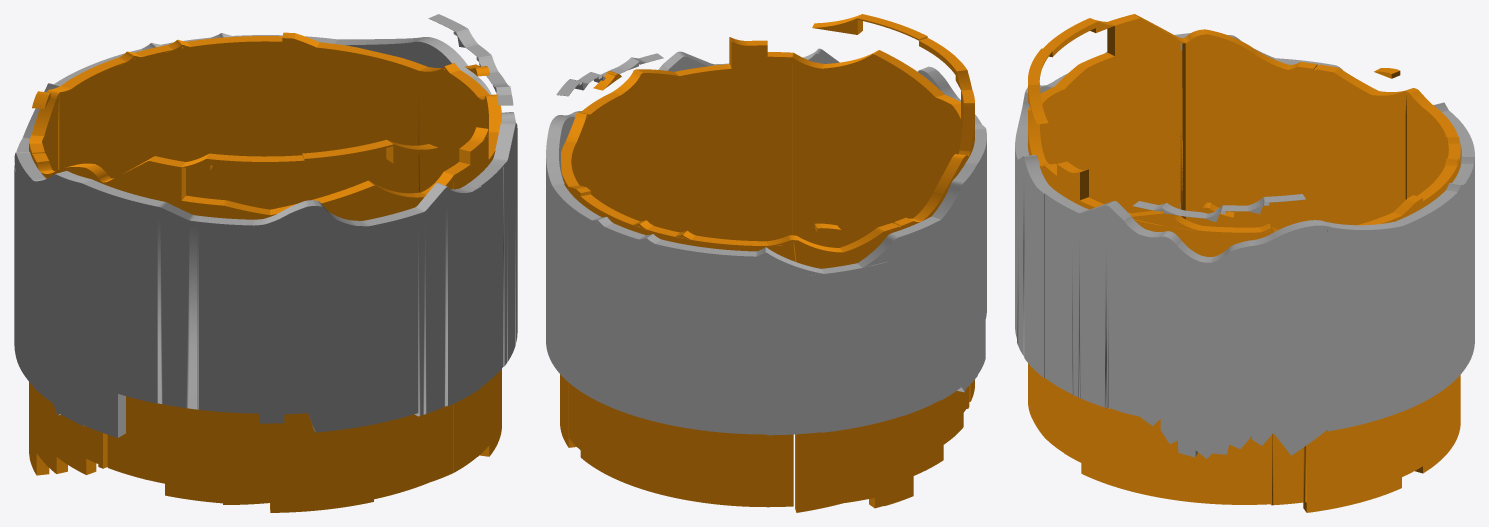
Rendered from LD_Proto_Circular.fbx.
3 views of the same model, side by side, from view 1: azimuth 30°, elevation 25°; view 2: azimuth 150°, elevation 25°; view 3: azimuth 270°, elevation 25° (orthographic). The views are drawn at different scales.
Visible parts, largest first — view 1: pCube53; view 2: pCube53; view 3: pCube53.
Part boxes in pixels (bbox=[...]): pCube53: bbox=[14, 14, 517, 512]; pCube53: bbox=[546, 14, 986, 512]; pCube53: bbox=[1015, 14, 1474, 512].
Bounding box in the file's own units: 174 × 149 × 174.
